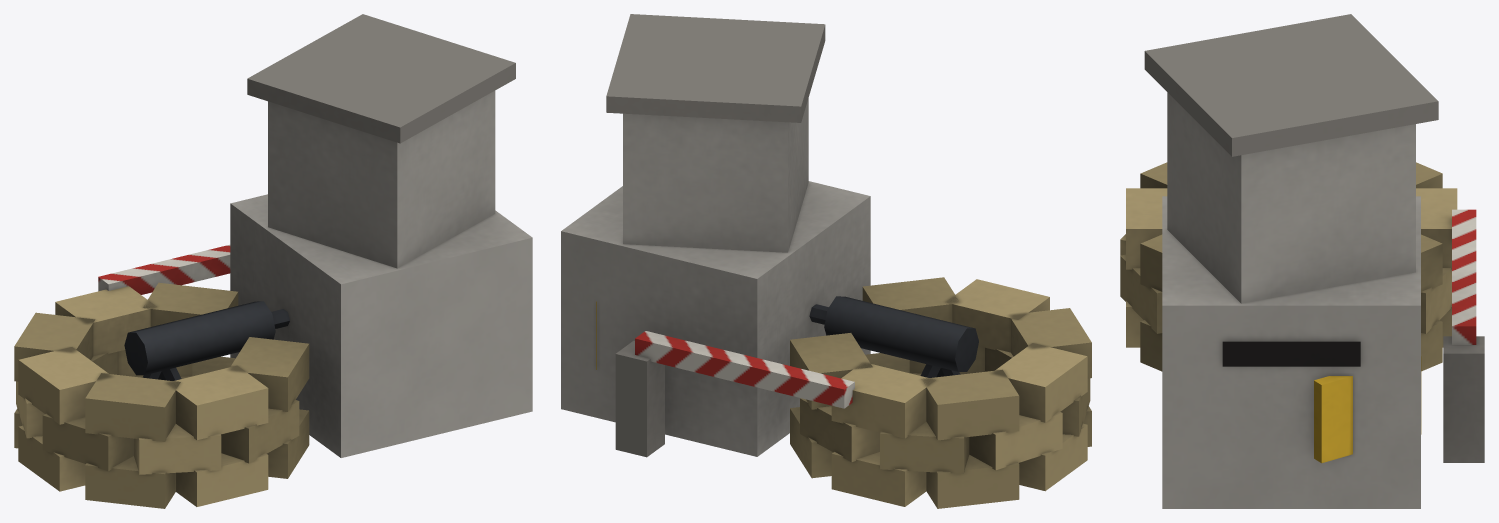
Rendered from fort_l5_post.glb.
The picture shows the model from 3 angles, left to right: view 1: azimuth 30°, elevation 25°; view 2: azimuth 150°, elevation 25°; view 3: azimuth 270°, elevation 25°; orthographic projection. The views are drawn at different scales.
Parts seen in each view (by area): view 1: fort_l5_post; view 2: fort_l5_post; view 3: fort_l5_post.
Part boxes in pixels (bbox=[...]): fort_l5_post: bbox=[14, 14, 532, 508]; fort_l5_post: bbox=[561, 14, 1091, 508]; fort_l5_post: bbox=[1120, 14, 1484, 508].
Bounding box in the file's own units: 0.3588 × 0.2437 × 0.2114.
1 material, 1 textured.
